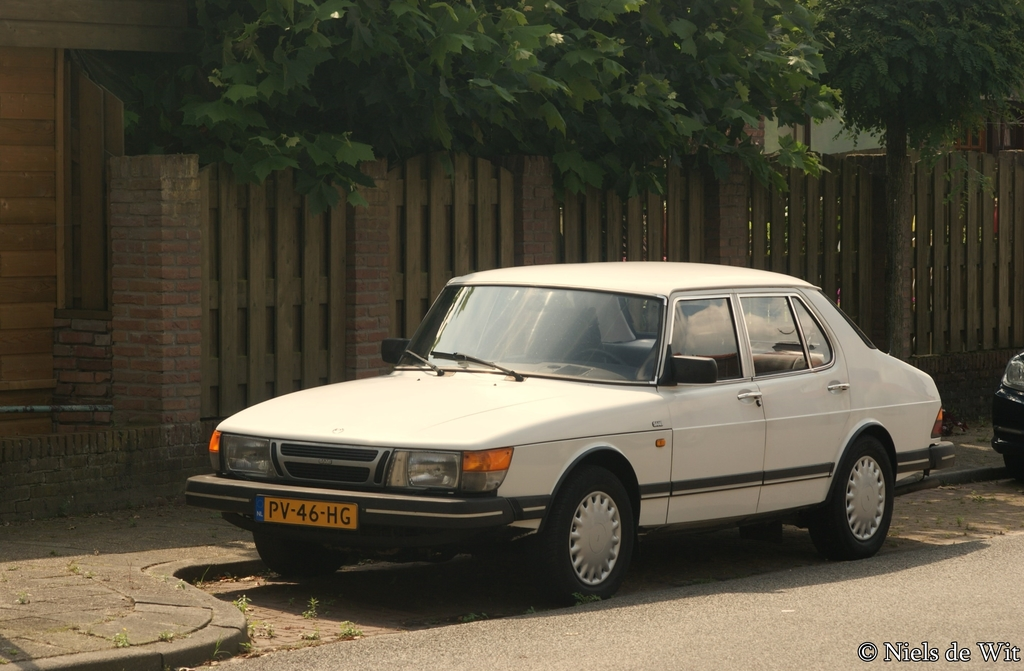Car: (185, 260, 955, 601), (992, 348, 1023, 482)
